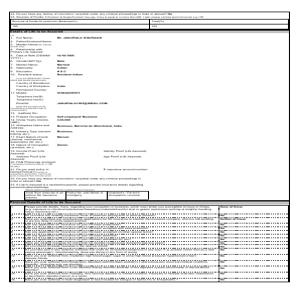table: (9, 201, 289, 280), (10, 11, 289, 30), (24, 191, 150, 200)
text: (10, 30, 288, 189)
